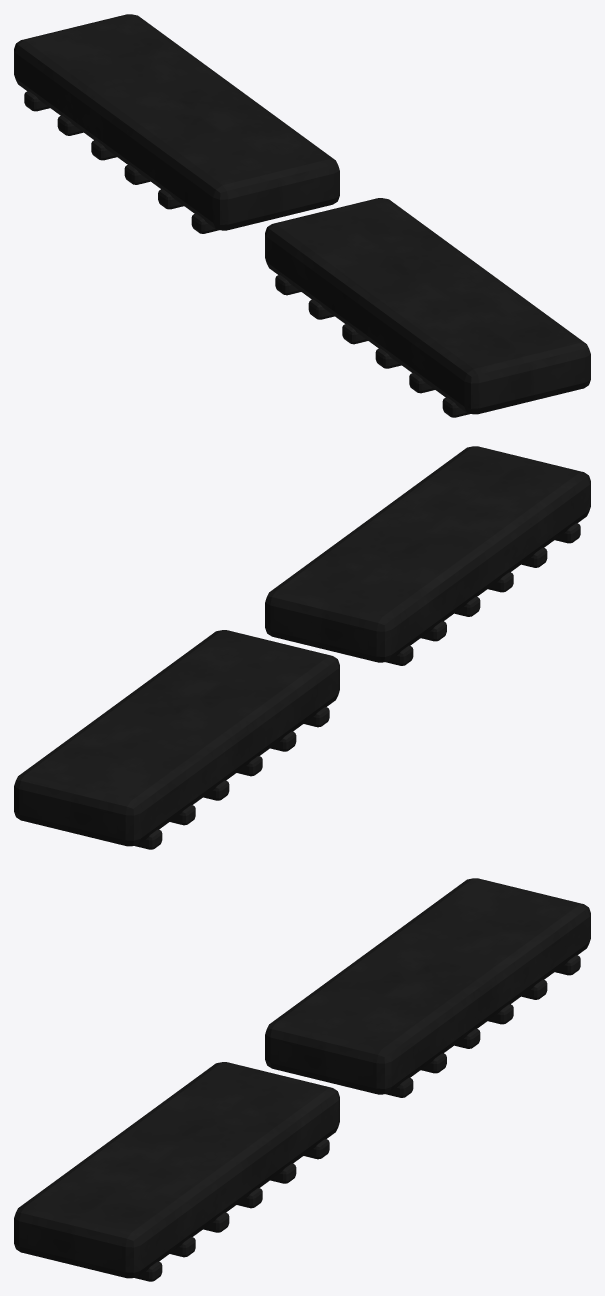
File: rail_cover.glb
3 views of the same model, one above another, from view 1: azimuth 30°, elevation 25°; view 2: azimuth 150°, elevation 25°; view 3: azimuth 330°, elevation 25° (orthographic).
Visible parts, largest first — view 1: cover1, cover0; view 2: cover0, cover1; view 3: cover1, cover0.
Part boxes in pixels (x1,y1,x2,y2): cover1: (14,14,339,230); cover0: (265,198,590,414); cover0: (265,446,590,662); cover1: (14,630,339,846); cover1: (265,878,590,1094); cover0: (14,1062,339,1278).
Bounding box in the file's own units: 0.027 × 0.011 × 0.165.
Materials: 1 (1 with a texture image).
